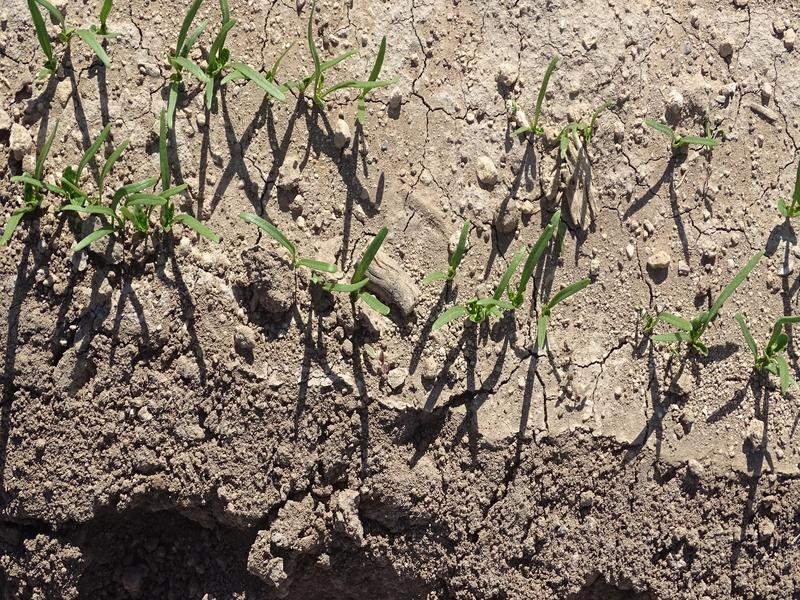Espinaca: (5, 130, 200, 248), (447, 215, 605, 334), (157, 4, 278, 118), (245, 221, 391, 315), (639, 256, 750, 362), (297, 28, 379, 113), (529, 82, 595, 154), (629, 104, 718, 155), (740, 318, 797, 384)
